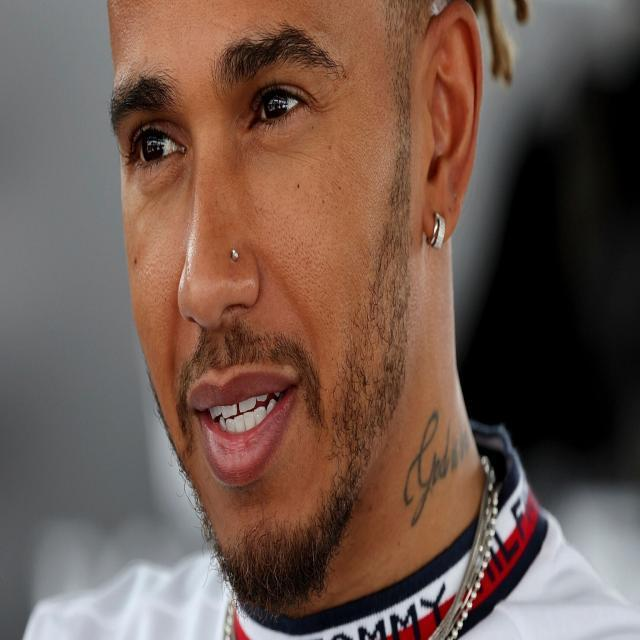Earring: (419, 206, 453, 254)
